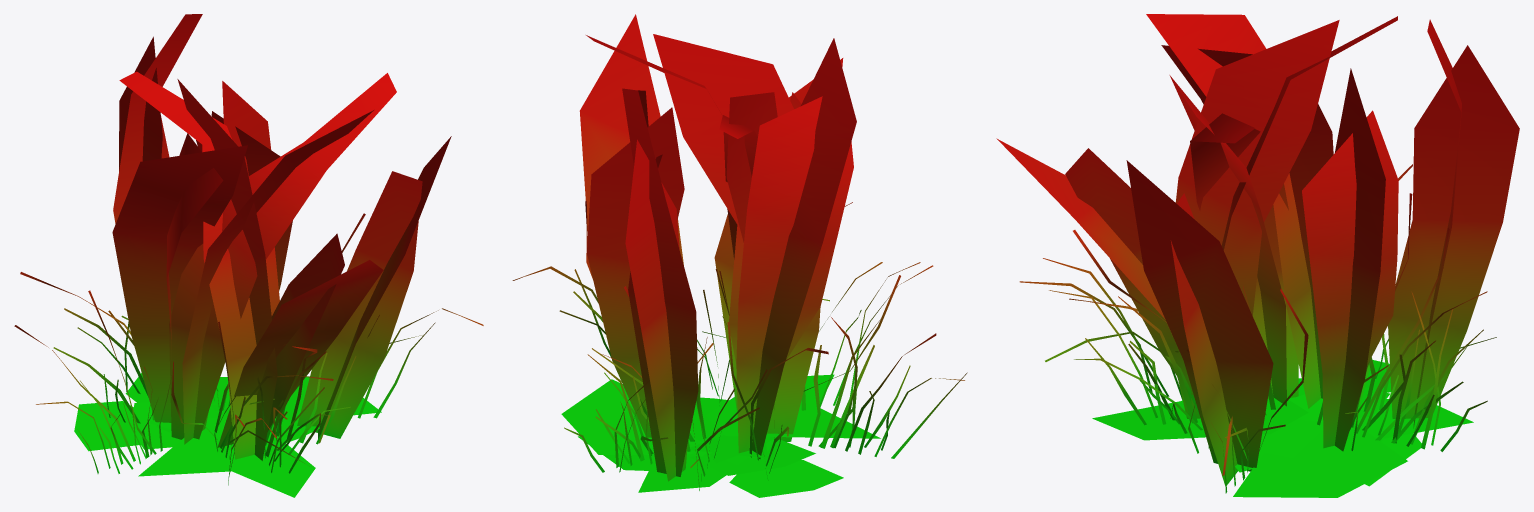
The model's file is Var14_LOD1.fbx.
The picture shows the model from 3 angles, left to right: view 1: azimuth 30°, elevation 25°; view 2: azimuth 150°, elevation 25°; view 3: azimuth 270°, elevation 25°; orthographic projection. The views are drawn at different scales.
Visible parts, largest first — view 1: _7f36_Var14_LOD1; view 2: _7f36_Var14_LOD1; view 3: _7f36_Var14_LOD1.
Part boxes in pixels (left/top/right/bottom): _7f36_Var14_LOD1: left=14, top=14, right=483, bottom=497; _7f36_Var14_LOD1: left=512, top=14, right=967, bottom=497; _7f36_Var14_LOD1: left=996, top=14, right=1519, bottom=497.
Bounding box in the file's own units: 11.53 × 9.47 × 10.42.
